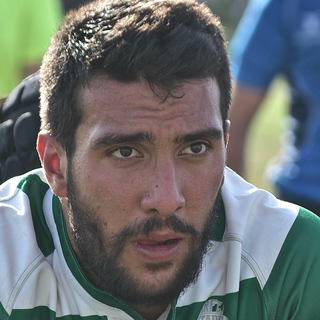eye: (99, 139, 147, 164), (174, 133, 217, 160)
